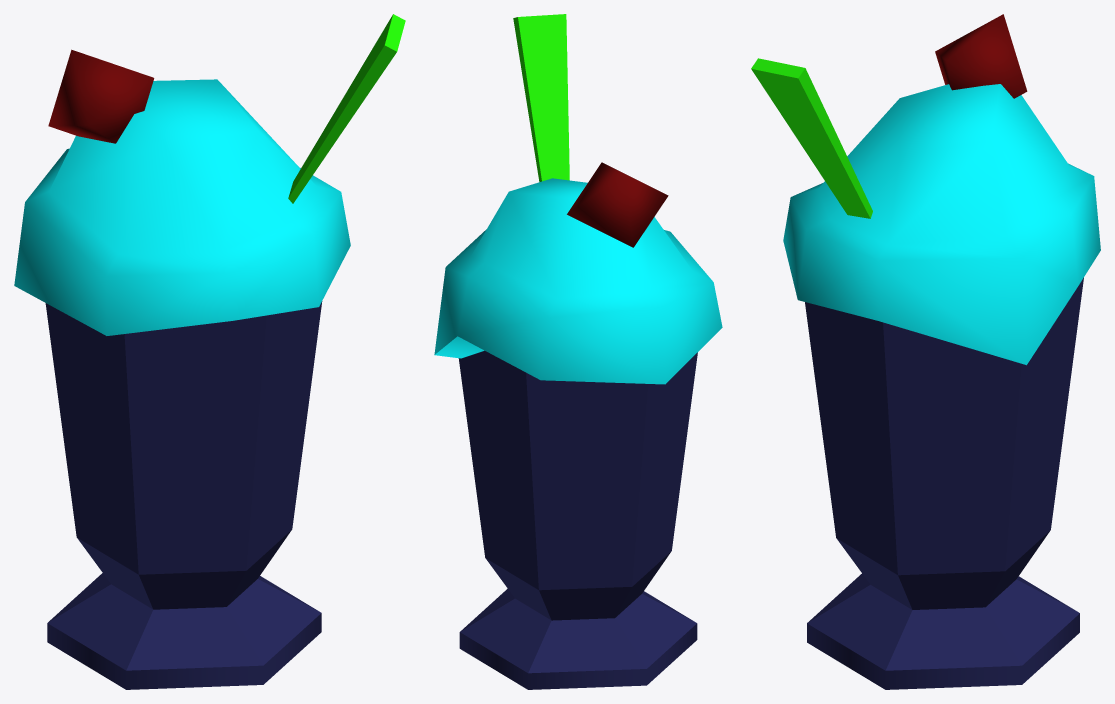
The model's file is icecup_marineblue.FBX.
The picture shows the model from 3 angles, left to right: view 1: azimuth 30°, elevation 25°; view 2: azimuth 150°, elevation 25°; view 3: azimuth 270°, elevation 25°; orthographic projection. The views are drawn at different scales.
Visible parts, largest first — view 1: icecup_marineblue; view 2: icecup_marineblue; view 3: icecup_marineblue.
Boxes of the visible parts, left/top/right/bottom form: icecup_marineblue: left=14, top=14, right=405, bottom=689; icecup_marineblue: left=434, top=14, right=722, bottom=689; icecup_marineblue: left=751, top=14, right=1100, bottom=689.
Bounding box in the file's own units: 35.02 × 75.52 × 37.58.
